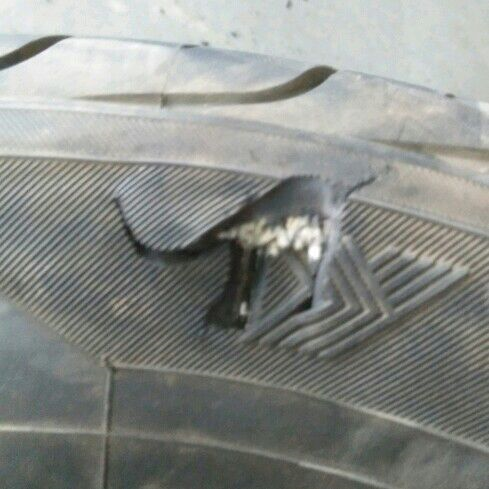cut: (107, 168, 398, 348)
